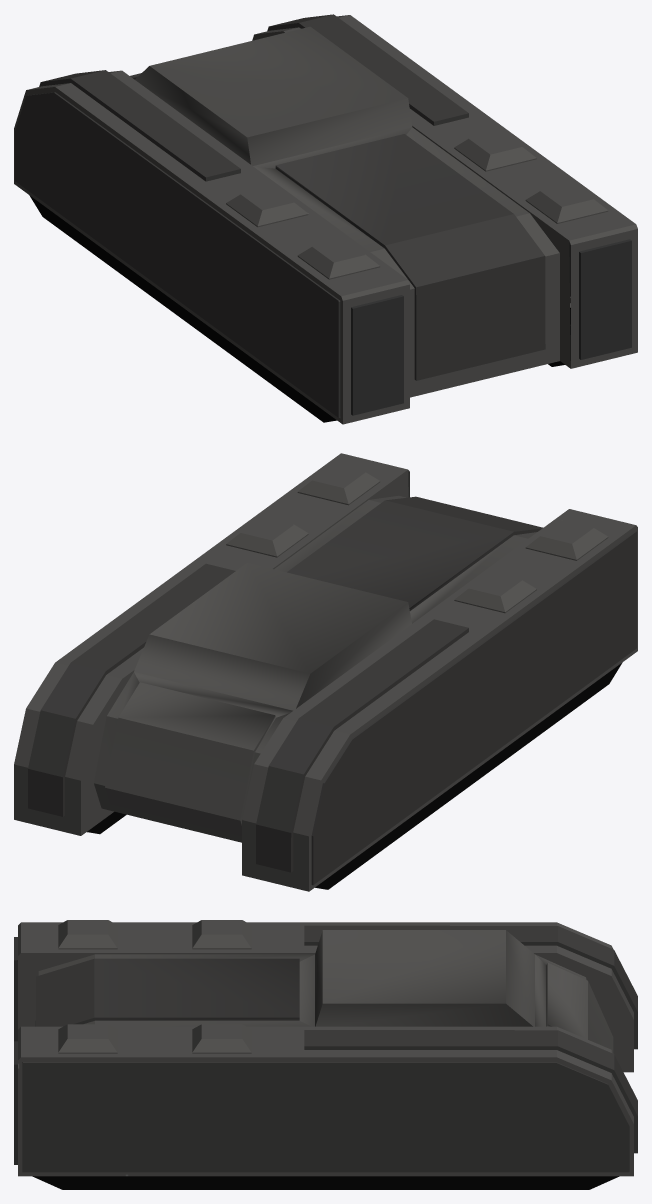
File: EnemyRatteTracks.fbx
3 renders of one model, top to bottom at view 1: azimuth 30°, elevation 25°; view 2: azimuth 150°, elevation 25°; view 3: azimuth 270°, elevation 25°, orthographic. The views are drawn at different scales.
Visible parts, largest first — view 1: Cube.004; view 2: Cube.004; view 3: Cube.004.
Part boxes in pixels (box(x1,y1,x2,y2)): Cube.004: box(14, 14, 637, 424); Cube.004: box(14, 453, 637, 891); Cube.004: box(14, 920, 637, 1189).
Size of the model in its own units: 838 by 452 by 1620.
Materials: 1 (1 with a texture image).
